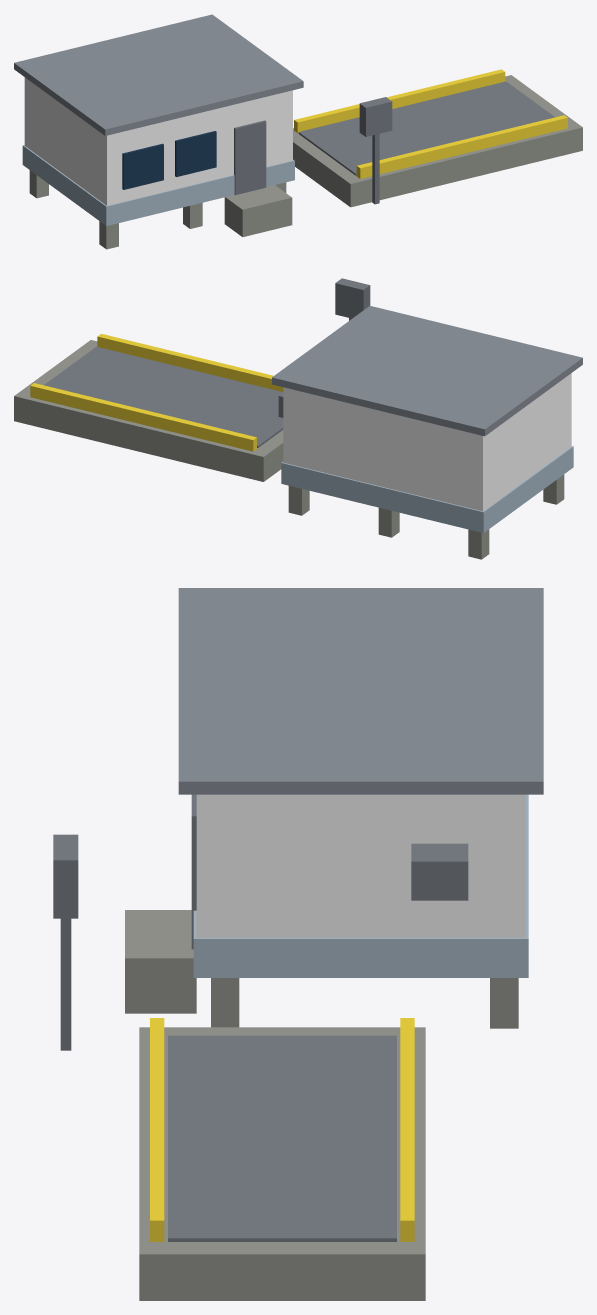
Rendered from site_office.fbx.
3 views of the same model, one above another, from view 1: azimuth 30°, elevation 25°; view 2: azimuth 150°, elevation 25°; view 3: azimuth 270°, elevation 25° (orthographic). The views are drawn at different scales.
Visible parts, largest first — view 1: a1022/0/site_office; view 2: a1022/0/site_office; view 3: a1022/0/site_office.
Part boxes in pixels (<box>): a1022/0/site_office: <box>14,14,582,249</box>; a1022/0/site_office: <box>14,278,582,559</box>; a1022/0/site_office: <box>53,588,543,1300</box>.
Size of the model in its own units: 15.1 by 3.95 by 6.85.
